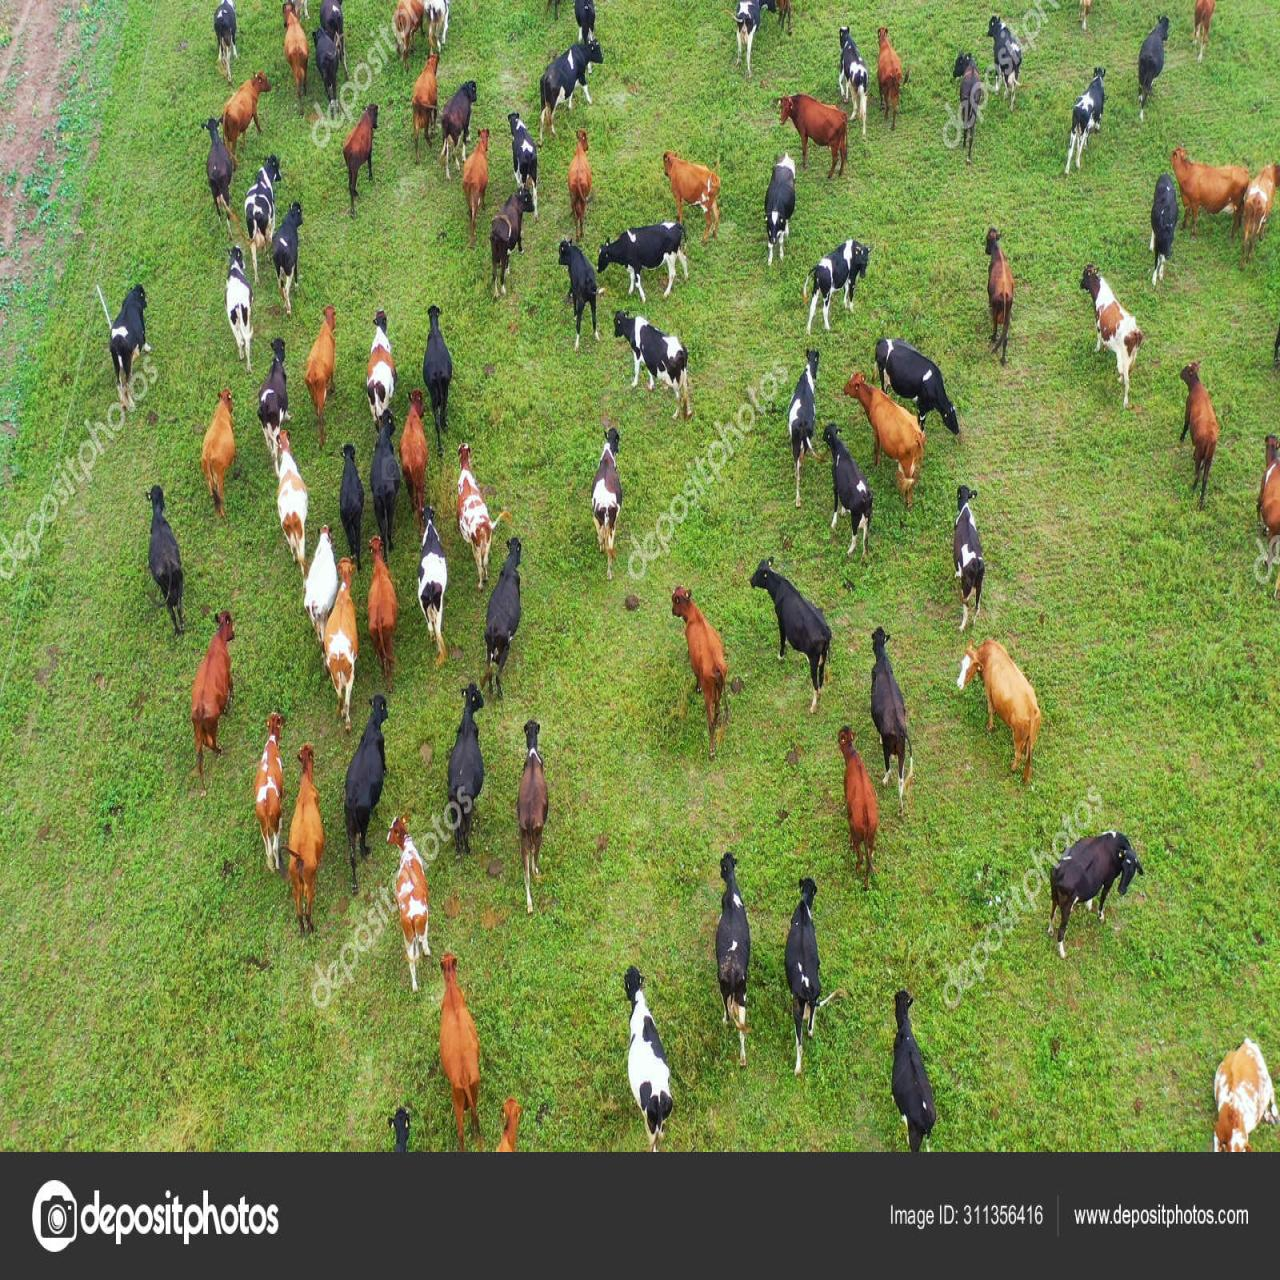cow: (697, 825, 770, 1068), (265, 731, 335, 944), (377, 797, 444, 999), (819, 719, 894, 898), (1047, 824, 1144, 955), (884, 982, 953, 1157), (443, 673, 501, 879), (138, 477, 202, 658), (247, 422, 321, 574), (583, 411, 646, 588), (613, 964, 674, 1146), (758, 557, 839, 692), (444, 431, 505, 607), (334, 692, 387, 894), (969, 635, 1044, 775), (1084, 236, 1146, 402), (433, 949, 485, 1143), (184, 600, 237, 792), (512, 722, 561, 919), (359, 529, 416, 693), (782, 863, 829, 1056), (188, 386, 253, 523), (314, 558, 366, 731), (478, 532, 530, 704), (937, 470, 992, 627), (802, 230, 881, 336), (662, 148, 738, 257), (788, 338, 831, 524), (1212, 1039, 1280, 1156), (595, 216, 689, 300), (1163, 141, 1258, 222), (859, 380, 930, 486), (680, 585, 729, 737), (252, 696, 293, 878), (248, 320, 293, 486), (198, 105, 248, 247), (300, 281, 348, 428), (244, 144, 290, 291), (873, 635, 914, 791), (107, 263, 154, 399), (299, 517, 349, 641), (983, 225, 1027, 368), (622, 321, 696, 404), (1063, 53, 1114, 173), (779, 97, 858, 169), (356, 297, 401, 421), (217, 245, 265, 360), (1232, 151, 1280, 264), (865, 13, 908, 137), (874, 338, 948, 410), (482, 186, 525, 307), (1184, 359, 1220, 502), (830, 438, 877, 542), (369, 414, 406, 546), (1145, 169, 1184, 293), (561, 125, 602, 238), (399, 392, 430, 536), (406, 52, 444, 168), (1250, 418, 1280, 564), (278, 0, 315, 116), (946, 49, 987, 154), (457, 121, 496, 231), (437, 74, 484, 164), (273, 183, 304, 319), (544, 45, 599, 120), (343, 110, 387, 205), (334, 443, 367, 564), (764, 155, 798, 268), (305, 23, 348, 109), (564, 241, 599, 342), (417, 552, 450, 658), (1132, 19, 1165, 121), (422, 324, 449, 421), (837, 38, 872, 110), (220, 83, 261, 142), (990, 23, 1023, 96), (215, 2, 239, 75), (1189, 0, 1217, 55), (515, 137, 538, 203), (731, 0, 757, 57), (574, 0, 595, 42)
